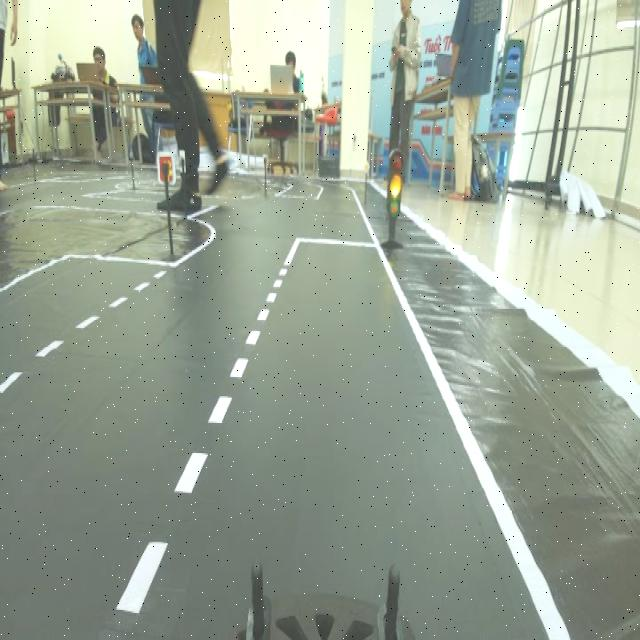trafficlight: (376, 138, 409, 264)
